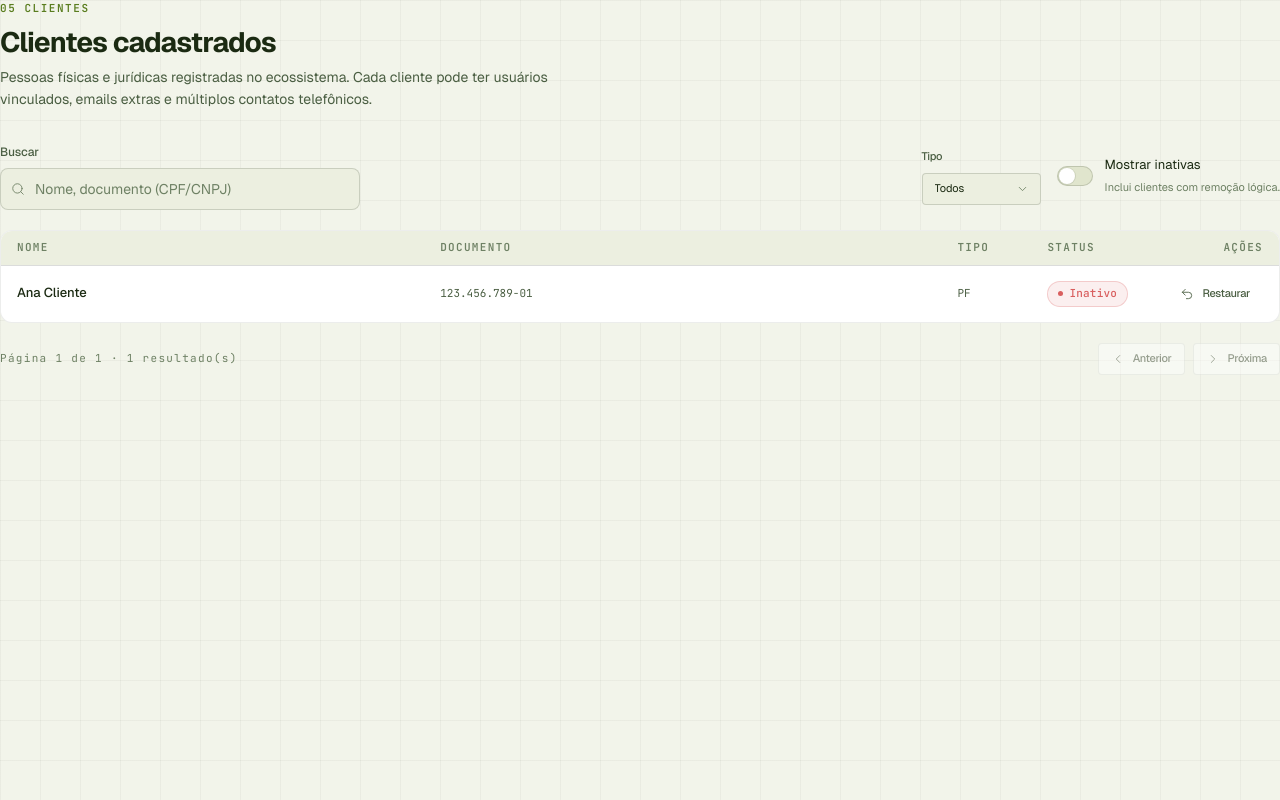
Test: ClientsListShellPage — restaurar (Issue #76) › abertura do diálogo de confirmação › clicar em "Restaurar" abre o diálogo com nome e documento do cliente
Click the button "Restaurar". click: (1215, 294)
box: [1167,278,1263,310]
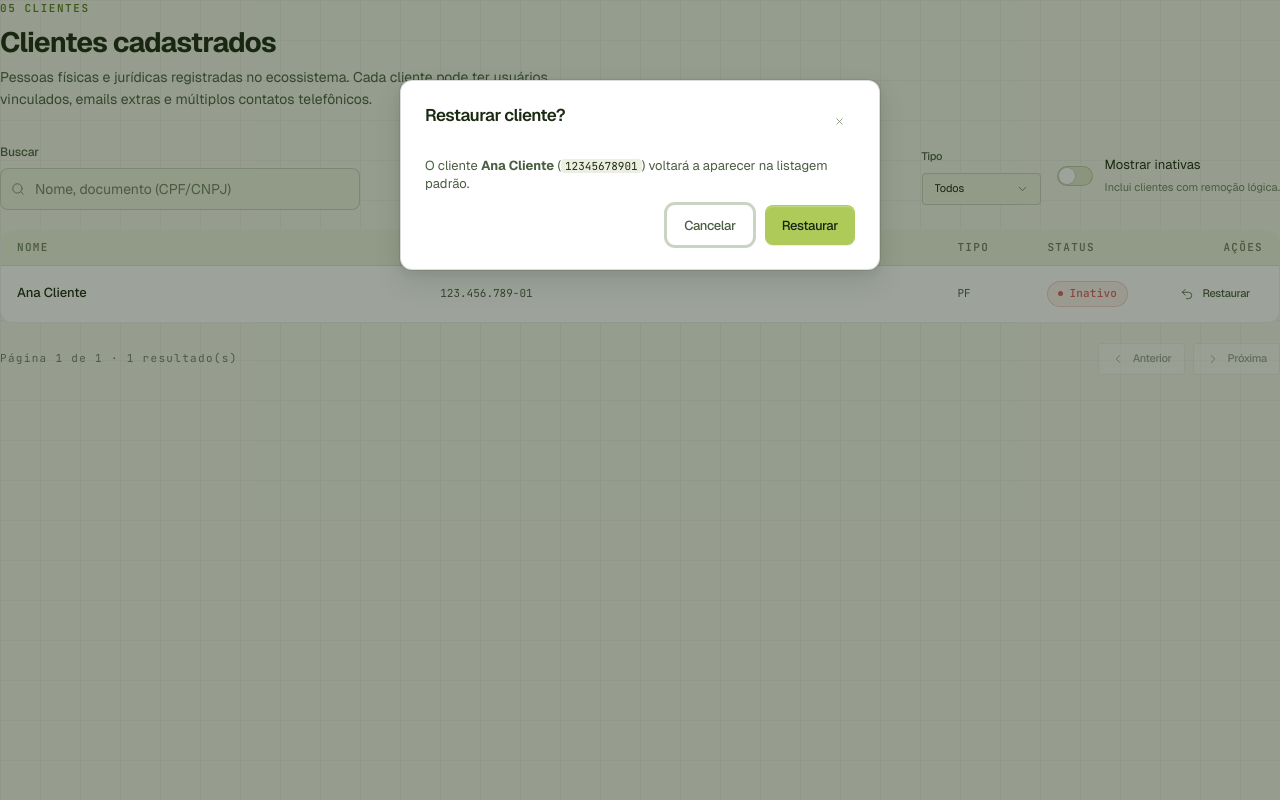
expect the dialog is shown: met, box [400,80,880,270]
expect the heading "Restaurar cliente?" is shown: met, box [425,104,565,126]
expect the element with test id "restore-client-description" shows "Ana Cliente": met, box [481,157,554,174]
